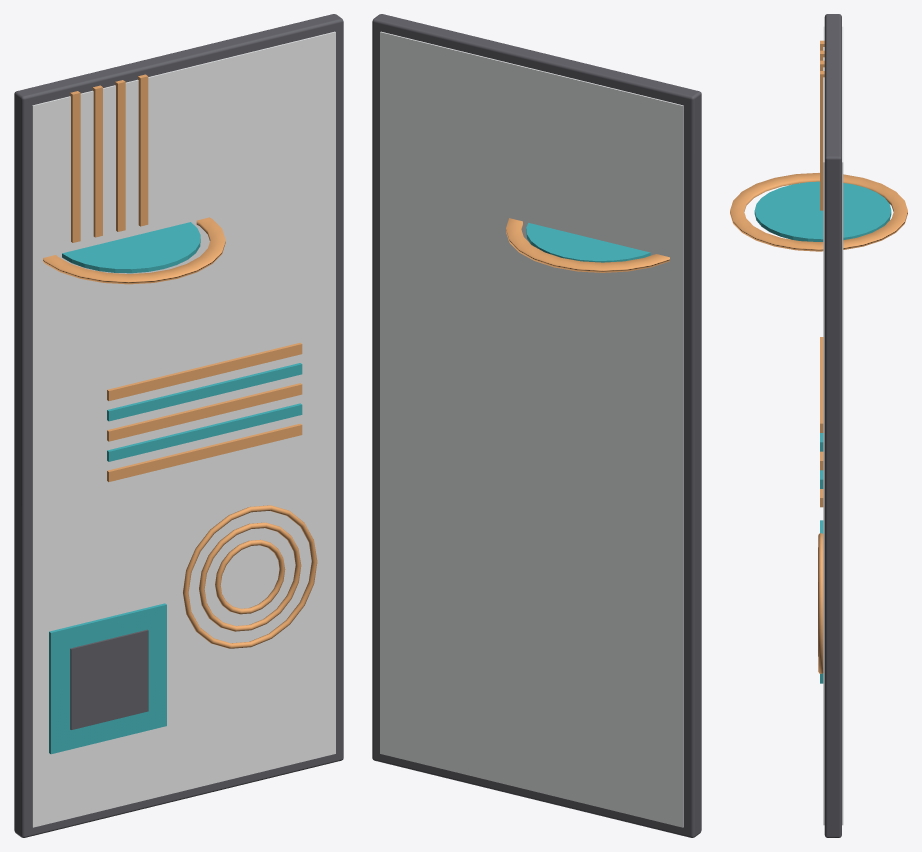
Rendered from tattoo-and-piercing-studio-flash-art-wall-panel-teal-bb16a049__34551.glb.
3 views of the same model, side by side, from view 1: azimuth 30°, elevation 25°; view 2: azimuth 150°, elevation 25°; view 3: azimuth 270°, elevation 25° (orthographic). The views are drawn at different scales.
Parts seen in each view (by area): view 1: flash-art-wall-panel-teal; view 2: flash-art-wall-panel-teal; view 3: flash-art-wall-panel-teal.
Boxes of the visible parts, x1,y1,x2,y2 form: flash-art-wall-panel-teal: [14, 14, 343, 837]; flash-art-wall-panel-teal: [372, 14, 701, 837]; flash-art-wall-panel-teal: [730, 14, 907, 837].
Bounding box in the file's own units: 0.9999 × 2.2 × 0.52.
